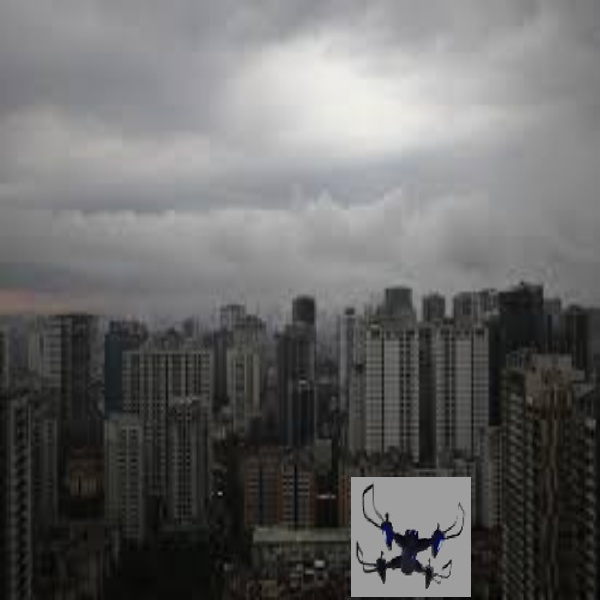drone: (352, 482, 468, 596)
